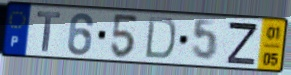5: (108, 12, 141, 61), (192, 18, 221, 66)
6: (66, 10, 95, 57)
D: (143, 15, 178, 61)
T: (36, 10, 62, 54)
Z: (225, 20, 260, 67)
